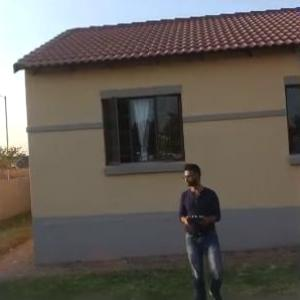follow: (167, 165, 225, 299)
